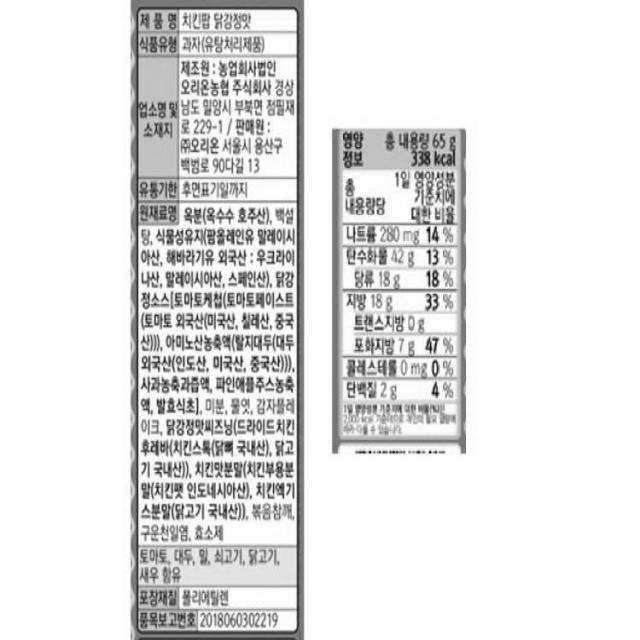Nutrition Label: (330, 124, 470, 469)
